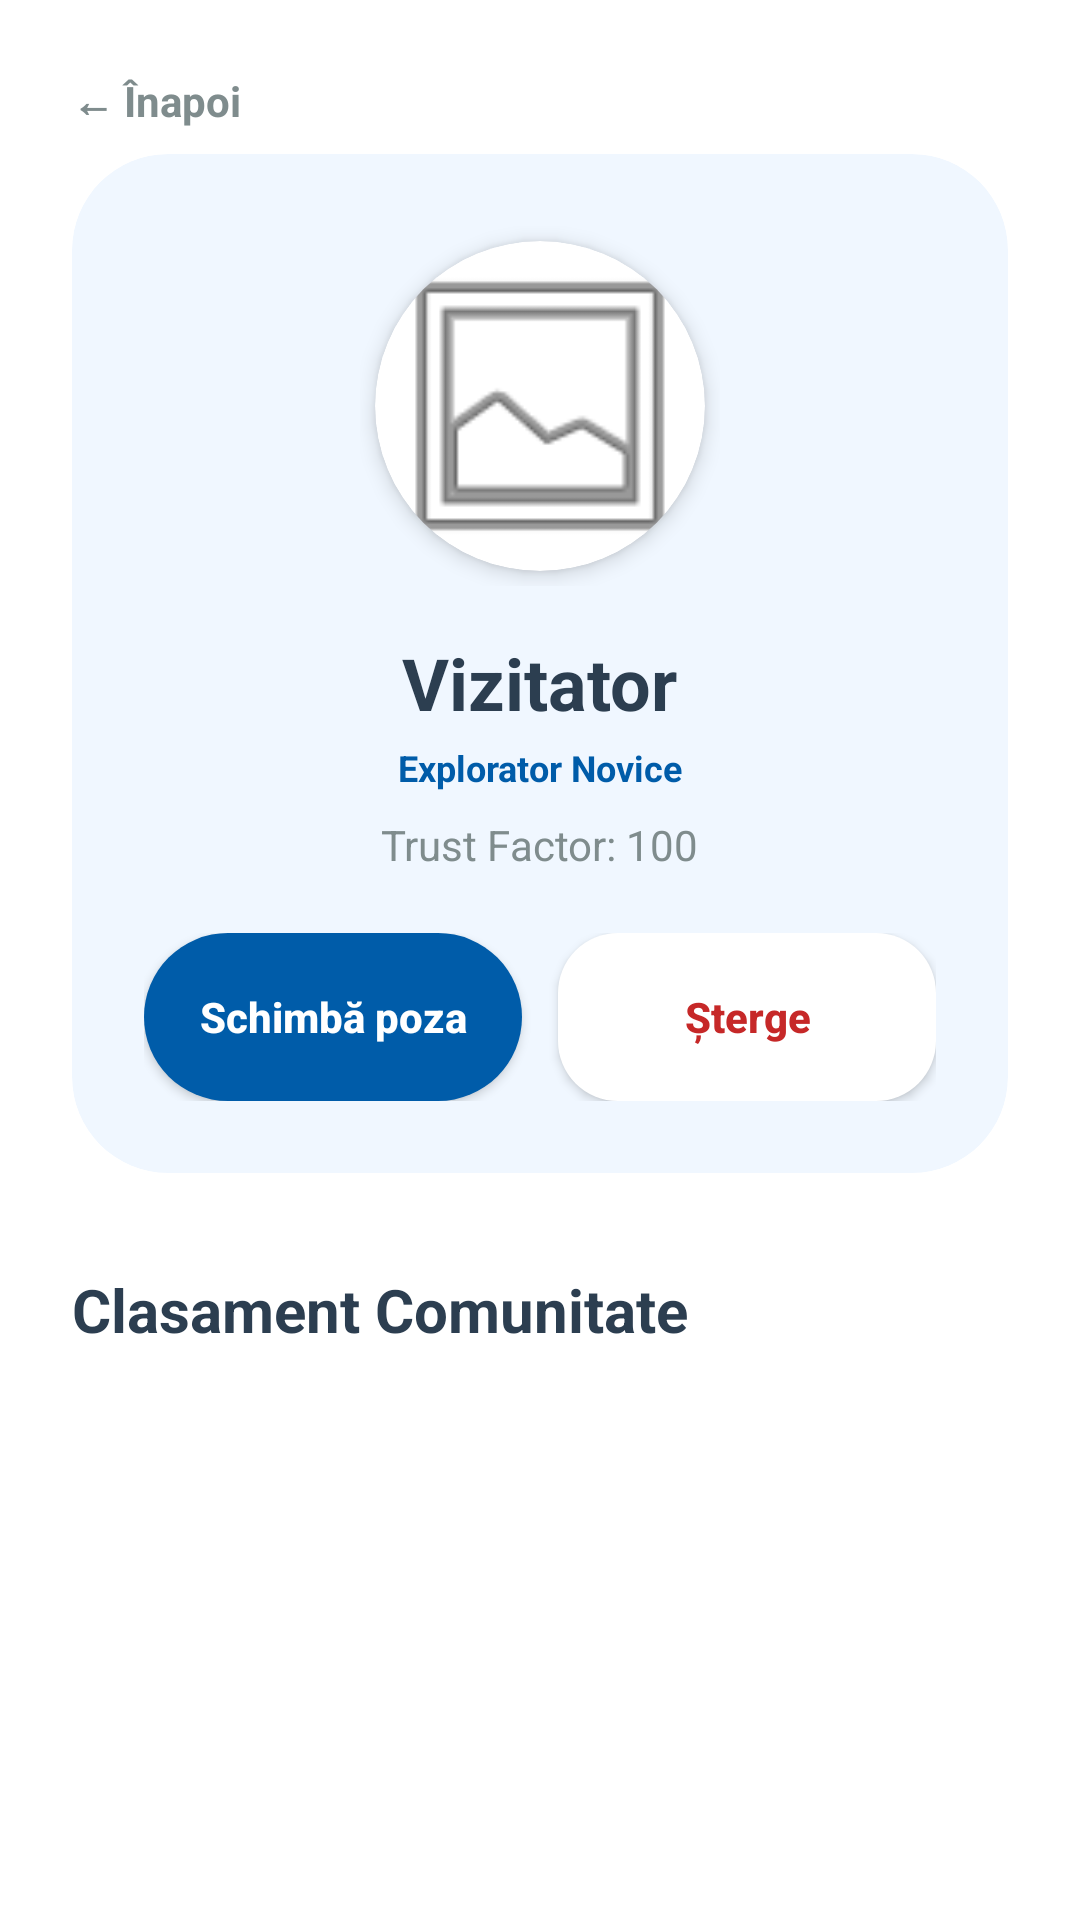

Icons on this 1080 × 1920 Android screen, each with its box as bbox=(x1, y1, x2, y2):
gallery: bbox=(375, 241, 705, 571)
